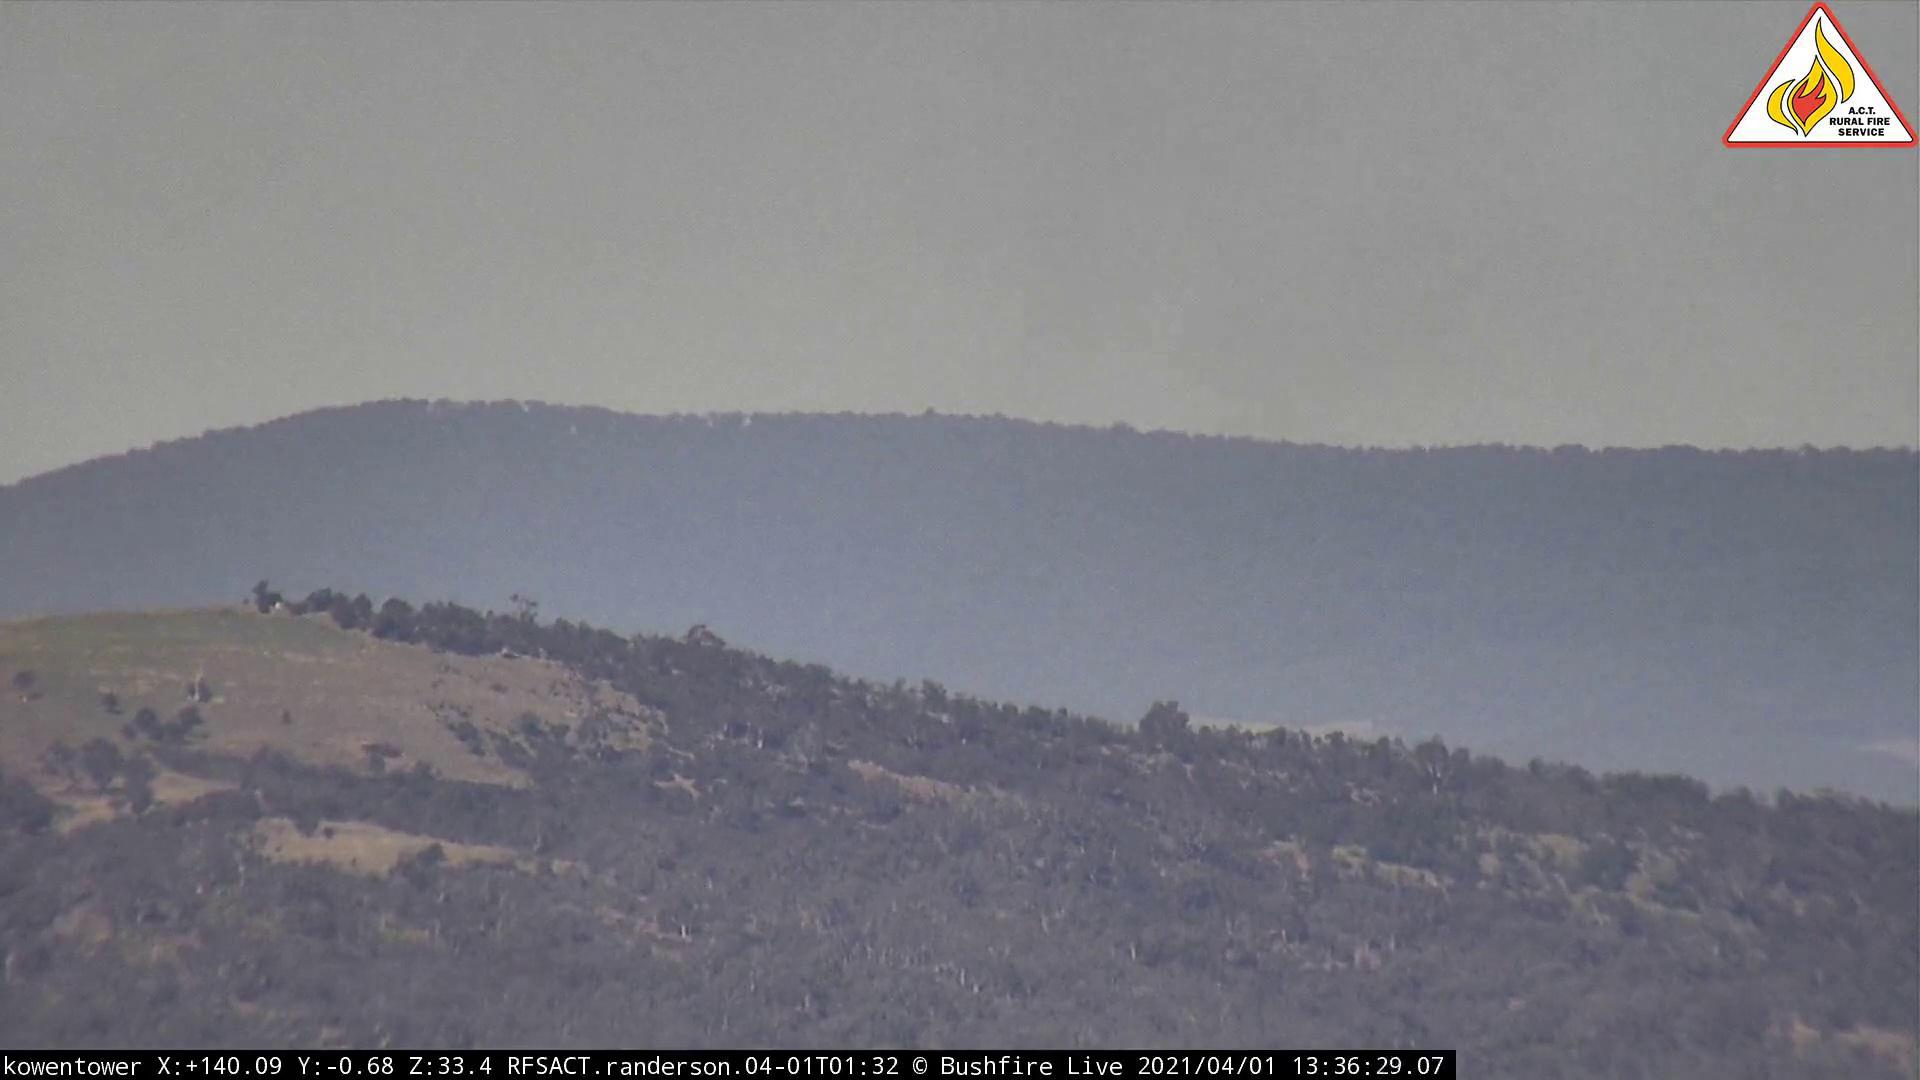Smoke: (1007, 116, 1604, 506)
